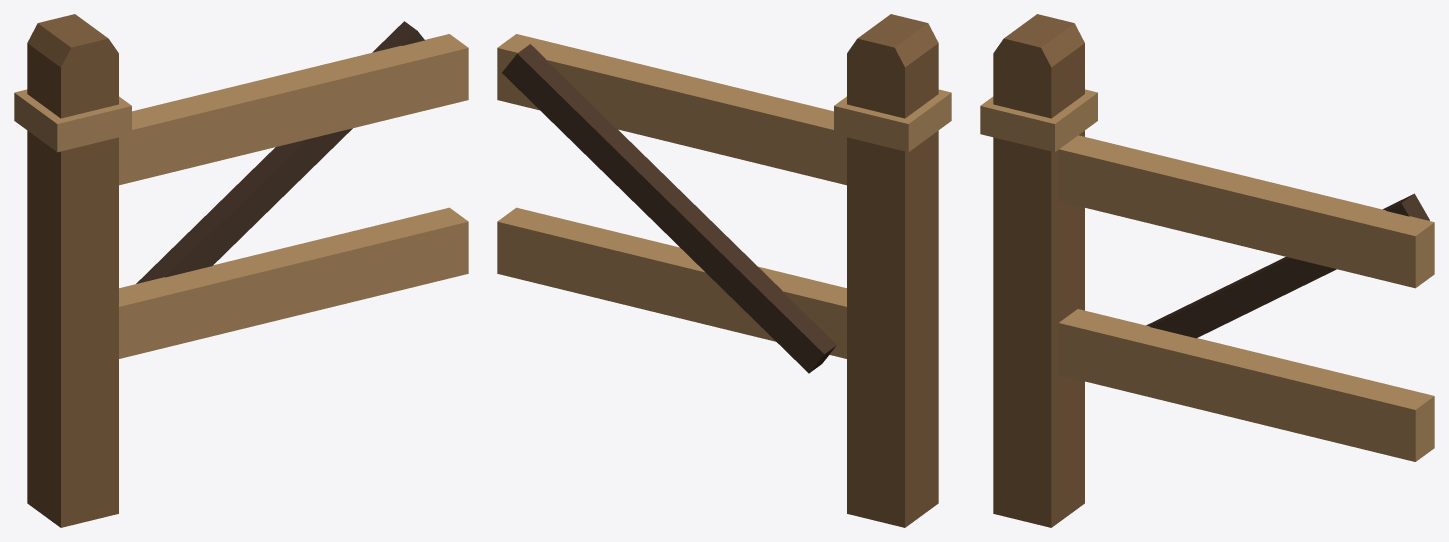
The model's file is TW_WOOD_RAIL_1M_B_LOD0.glb.
3 views of the same model, side by side, from view 1: azimuth 30°, elevation 25°; view 2: azimuth 150°, elevation 25°; view 3: azimuth 330°, elevation 25° (orthographic).
Parts seen in each view (by area): view 1: TW_WOOD_RAIL_1M_B_LOD0; view 2: TW_WOOD_RAIL_1M_B_LOD0; view 3: TW_WOOD_RAIL_1M_B_LOD0.
Part boxes in pixels (x1,y1,x2,y2): TW_WOOD_RAIL_1M_B_LOD0: (14, 14, 468, 527); TW_WOOD_RAIL_1M_B_LOD0: (497, 14, 951, 527); TW_WOOD_RAIL_1M_B_LOD0: (980, 14, 1434, 527).
Bounding box in the file's own units: 1.02 × 1.1 × 0.1825.
1 material, 1 textured.
